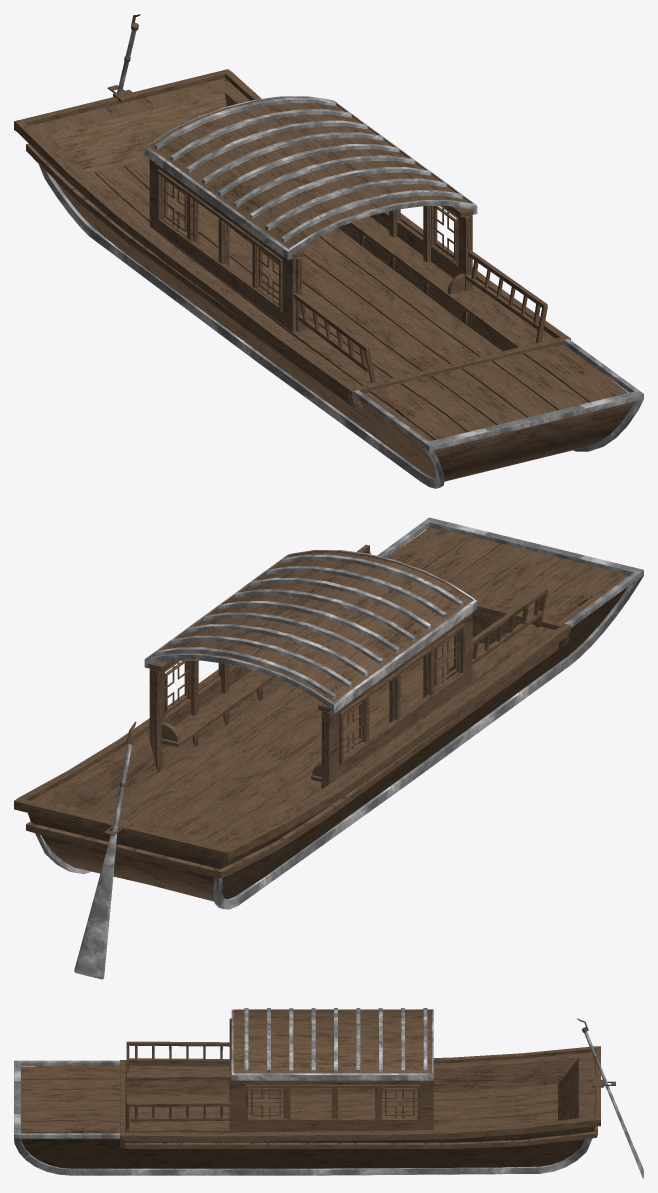
The model's file is SM_boat_02.fbx.
3 views of the same model, one above another, from view 1: azimuth 30°, elevation 25°; view 2: azimuth 150°, elevation 25°; view 3: azimuth 270°, elevation 25° (orthographic). The views are drawn at different scales.
Parts seen in each view (by area): view 1: SM_boat_02; view 2: SM_boat_02; view 3: SM_boat_02.
Part boxes in pixels (<box>): SM_boat_02: <box>14,14,643,488</box>; SM_boat_02: <box>14,517,643,979</box>; SM_boat_02: <box>14,1008,643,1178</box>.
Size of the model in its own units: 422 by 1487 by 406.
3 materials, 3 textured.
